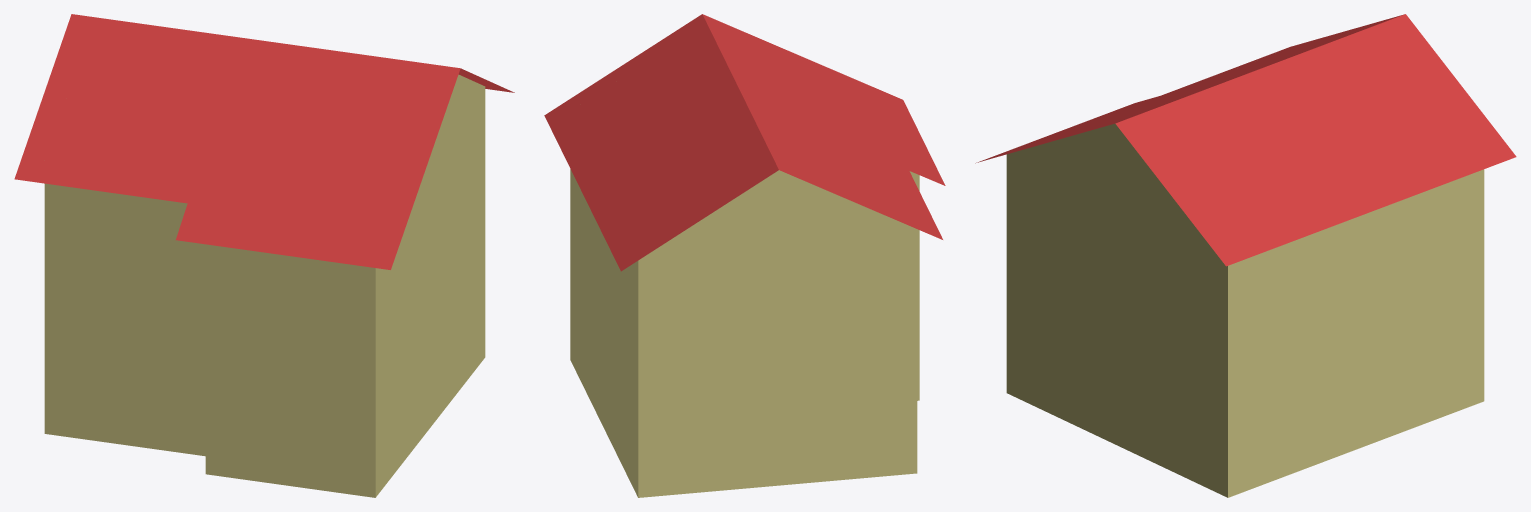
3 renders of one model, left to right at view 1: azimuth 30°, elevation 25°; view 2: azimuth 150°, elevation 25°; view 3: azimuth 270°, elevation 25°, orthographic. The views are drawn at different scales.
Visible parts, largest first — view 1: group_5, group_3, group_4; view 2: group_5, group_3, group_4; view 3: group_5, group_3, group_4.
Boxes of the visible parts, left/top/right/bottom form: group_5: left=44, top=74, right=485, bottom=497; group_3: left=45, top=14, right=514, bottom=269; group_4: left=14, top=14, right=509, bottom=203; group_5: left=570, top=169, right=919, bottom=497; group_3: left=544, top=14, right=945, bottom=271; group_4: left=544, top=14, right=942, bottom=239; group_5: left=1006, top=123, right=1484, bottom=497; group_3: left=975, top=14, right=1516, bottom=265; group_4: left=1115, top=14, right=1405, bottom=266.
Bounding box in the file's own units: 16.83 × 17.8 × 12.15.
